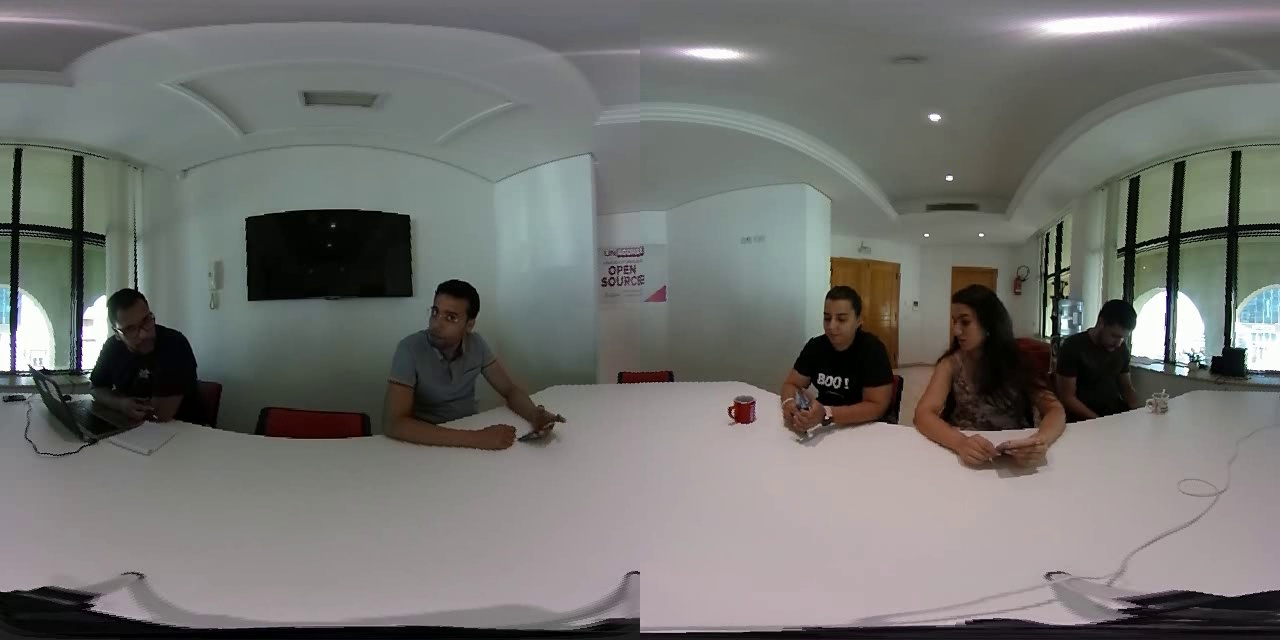person: (912, 269, 1057, 472), (377, 273, 506, 459), (780, 265, 899, 441), (75, 281, 203, 442), (1055, 289, 1150, 426)
